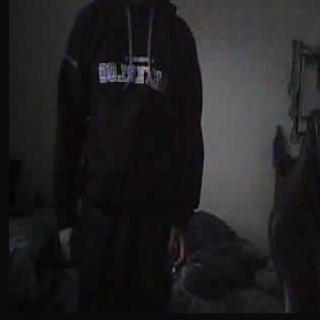Navy Sweatpants: (77, 208, 166, 320)
Waterloo Hoodie: (62, 0, 192, 206)
